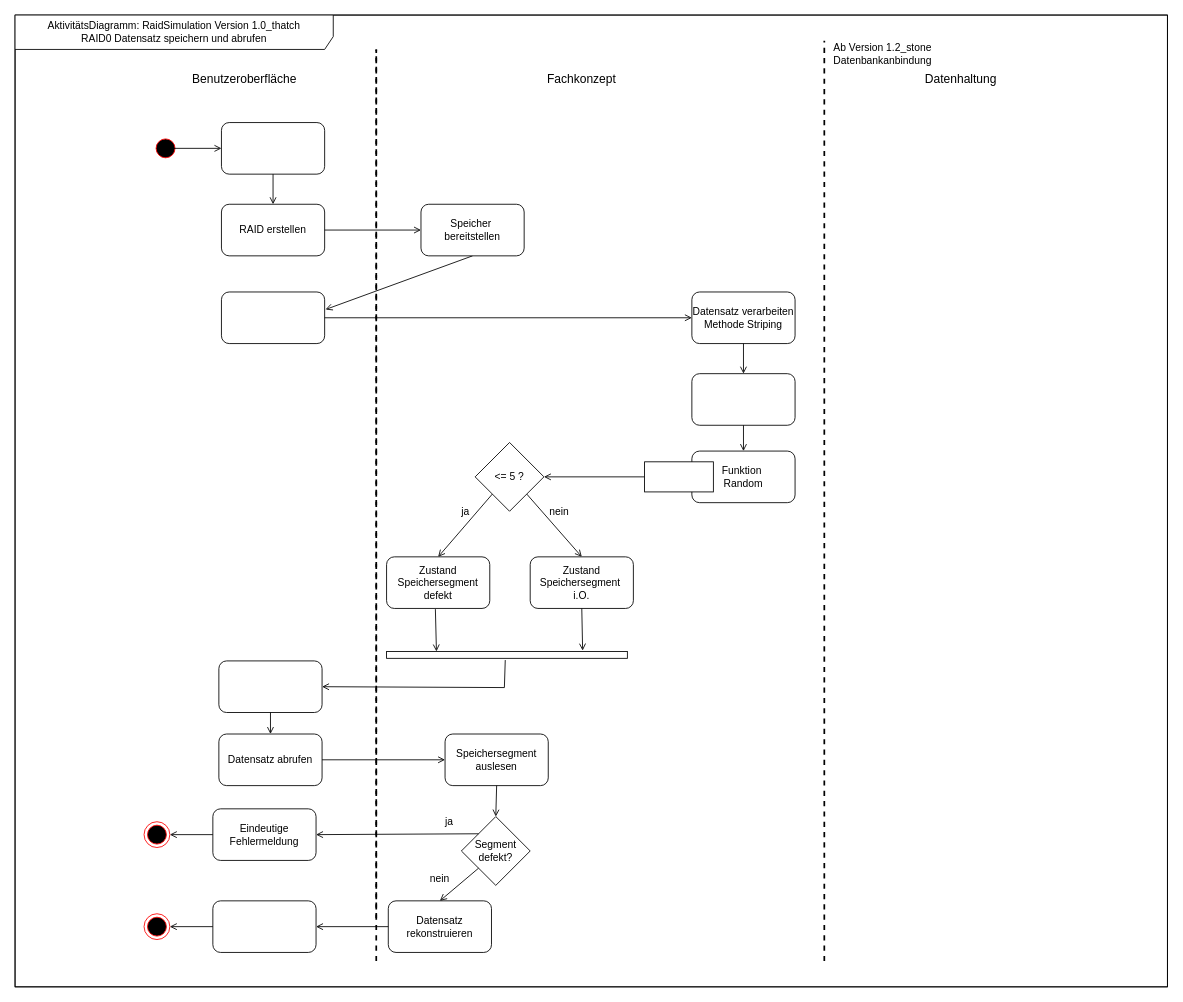
This 1183x1002 diagram has some shape labels left out. Here are the shapes that lost their labels. From the top down, the centre of each, then its label:
pixel 273 148: RAID0 auswählen
pixel 273 317: Datensatz hinzufügen
pixel 743 399: Datensatz auf Speichersegmente verteilen
pixel 678 476: int zwischen 0-100
pixel 270 686: Meldung "Datensatz gespeichert"
pixel 264 926: Datensatz anzeigen
